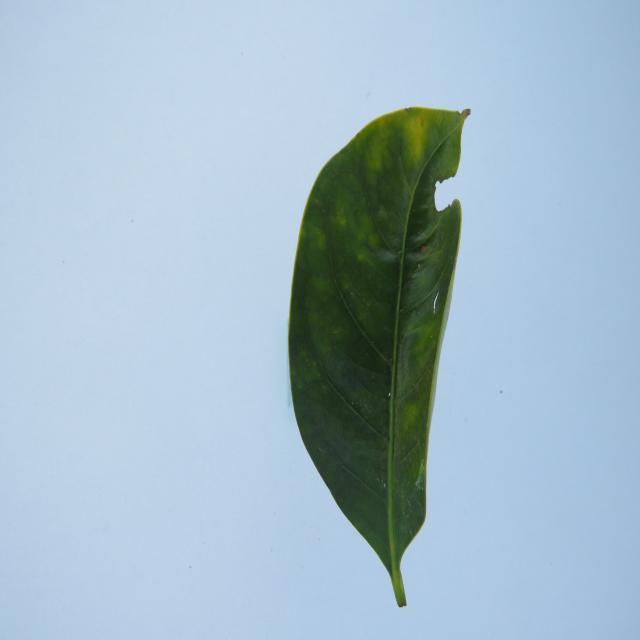DeficienciaNutricional-Boro: (289, 108, 470, 607)
